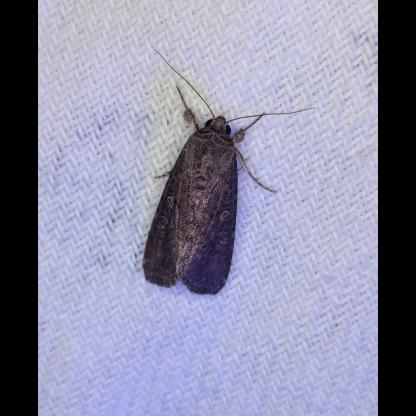Fall Armyworm Moth: (140, 45, 318, 299)
